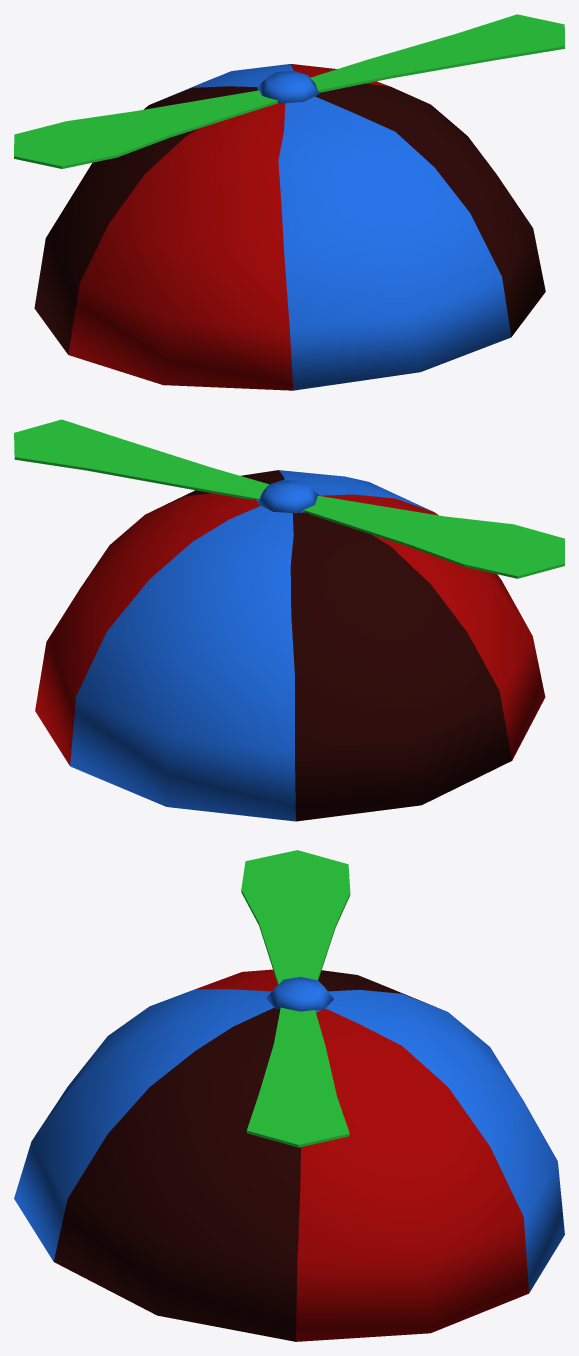
File: SPINNY HAT.glb
3 renders of one model, top to bottom at view 1: azimuth 30°, elevation 25°; view 2: azimuth 150°, elevation 25°; view 3: azimuth 270°, elevation 25°, orthographic. The views are drawn at different scales.
Parts seen in each view (by area): view 1: Propeller, fan; view 2: Propeller, fan; view 3: Propeller, fan.
Boxes of the visible parts, <box> form: Propeller: <box>34,64,545,390</box>; fan: <box>14,14,564,168</box>; Propeller: <box>35,470,545,821</box>; fan: <box>14,419,564,578</box>; Propeller: <box>14,969,564,1341</box>; fan: <box>241,850,350,1147</box>.
Size of the model in its own units: 1.22 by 0.49 by 0.9735.
